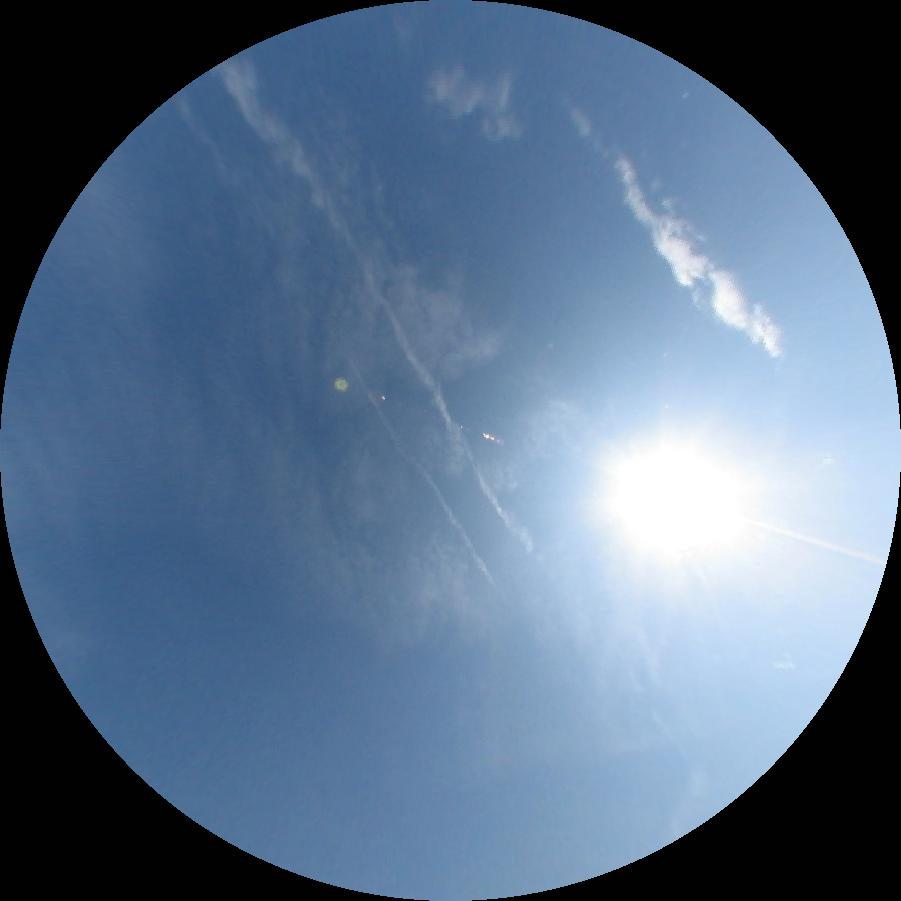contrail veryold: (218, 48, 533, 552), (348, 357, 493, 584)
parasite: (748, 513, 887, 561)
sun: (613, 438, 747, 556)
